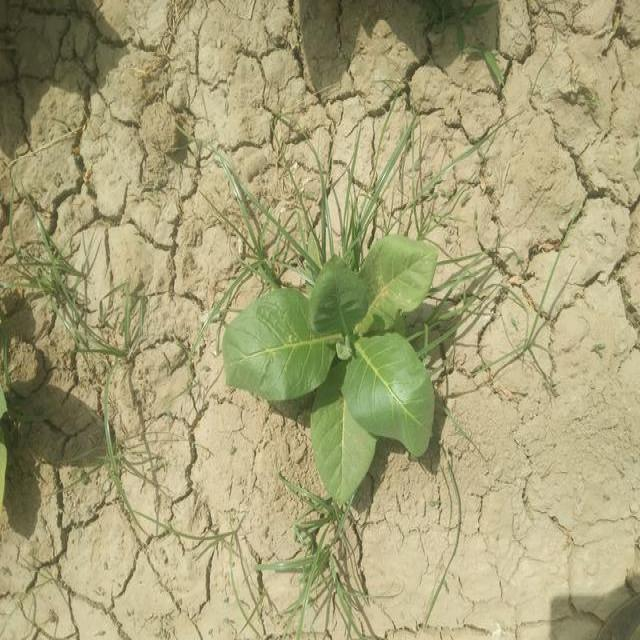crop: (218, 234, 439, 511)
